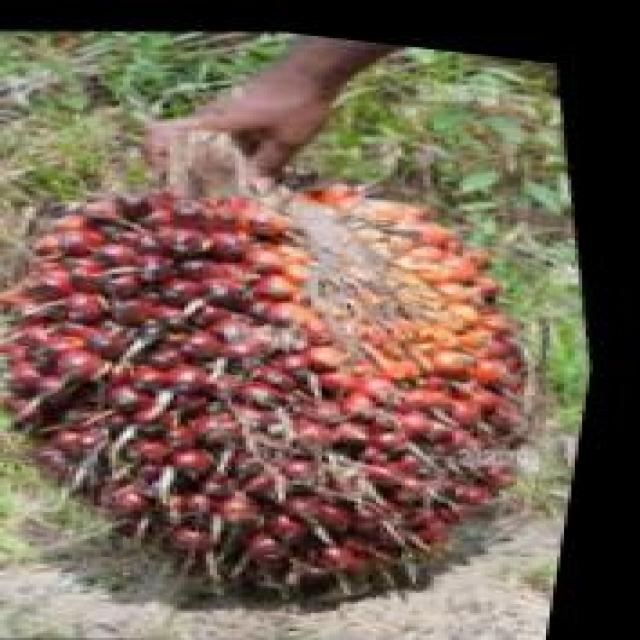Ripefruit: (0, 85, 629, 640)
